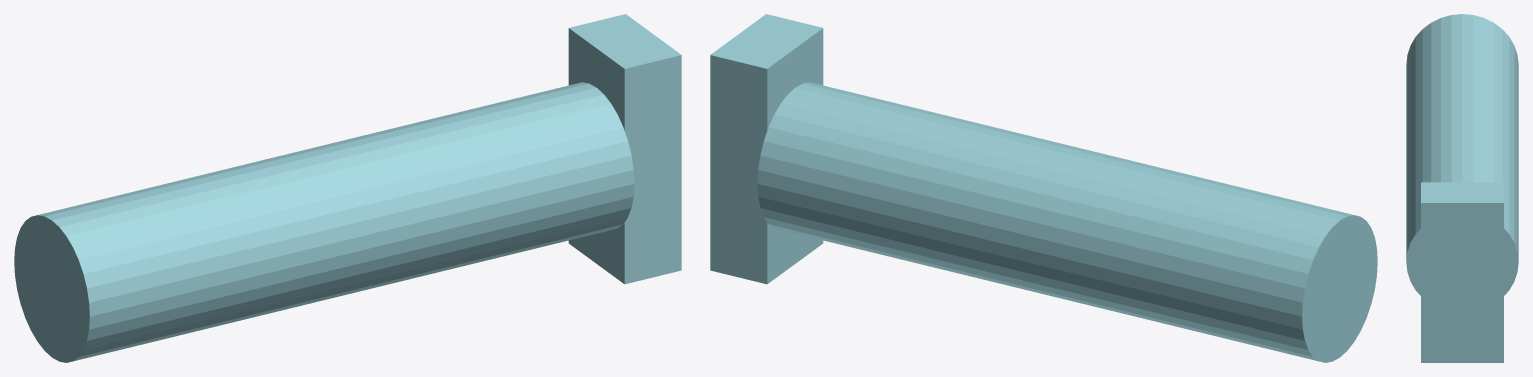
File: cylinder_hammer_v1007.obj
3 renders of one model, left to right at view 1: azimuth 30°, elevation 25°; view 2: azimuth 150°, elevation 25°; view 3: azimuth 270°, elevation 25°, orthographic. The views are drawn at different scales.
Bounding box in the file's own units: 0.2457 × 0.0841 × 0.0535.
1 material, 1 textured.
